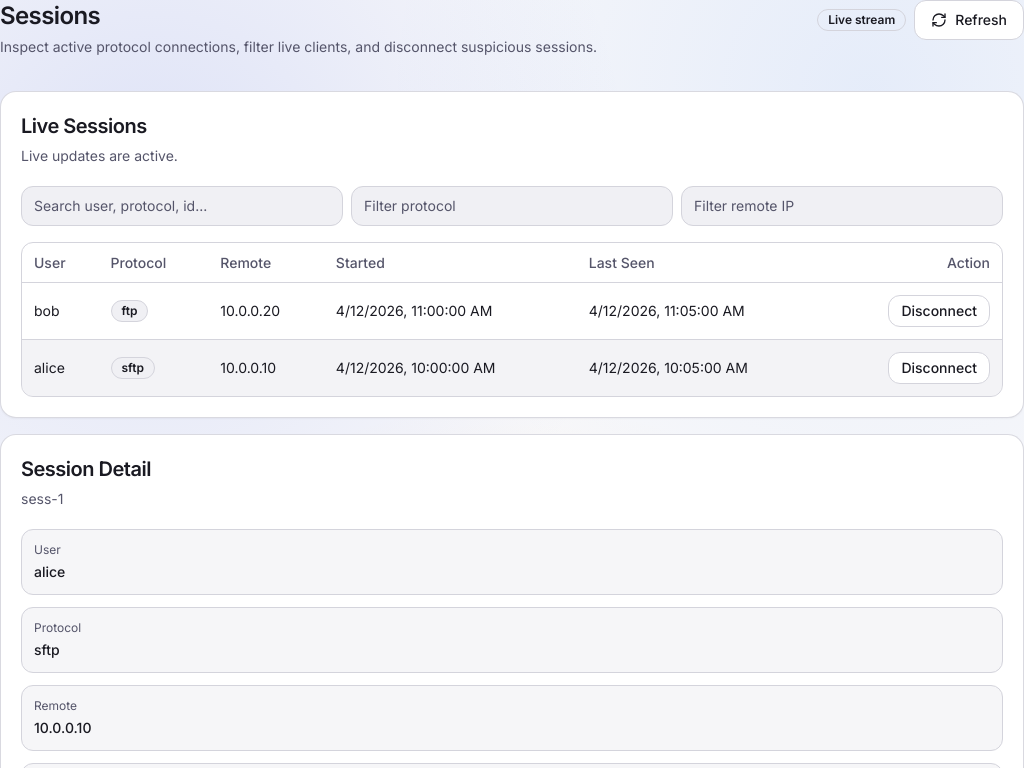
Test: SessionsPage › disconnects a selected session after confirmation
Expected: the row "alice" is shown, [22, 340, 1002, 396]
Click the button with aria-label "Disconnect session for alice".
click(939, 368)  # box [888, 352, 990, 384]
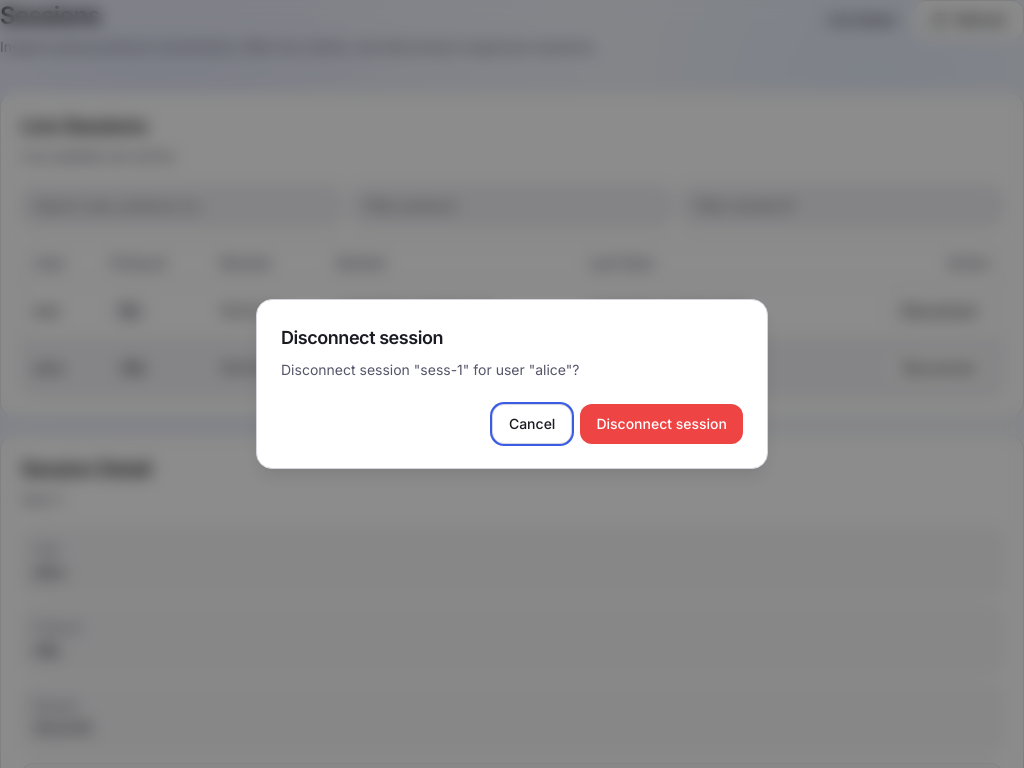
Click the button "Disconnect session".
click(662, 424)  # box [580, 404, 743, 444]
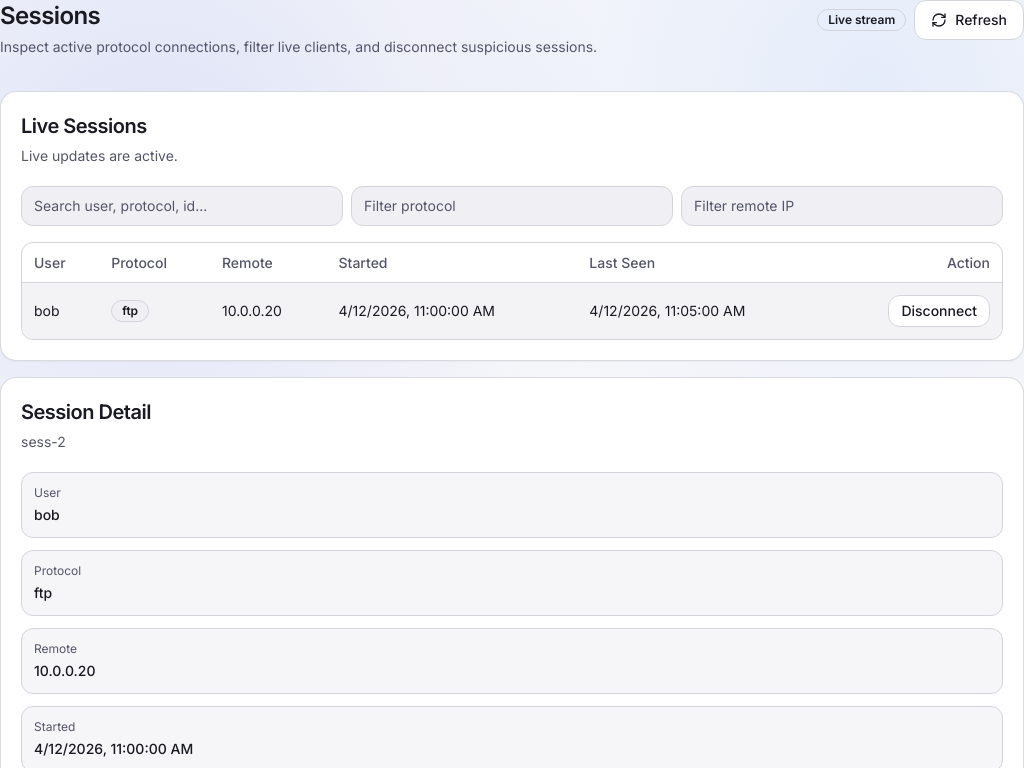
Now the cell "alice" is gone
